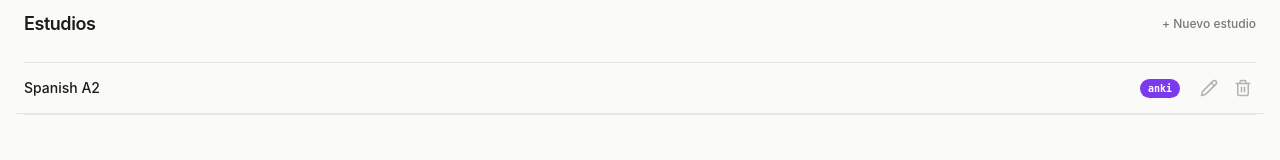
Test case: CategoryStudiesView — CRUD controls (phase 8.A.1) › shows rename input with current name on rename click
Expected: the element with test id "study-item" is shown, [16,63,1264,114]
Click the button with test id "btn-rename-deck". click: {"x": 1209, "y": 88}
box: [1196,75,1222,101]
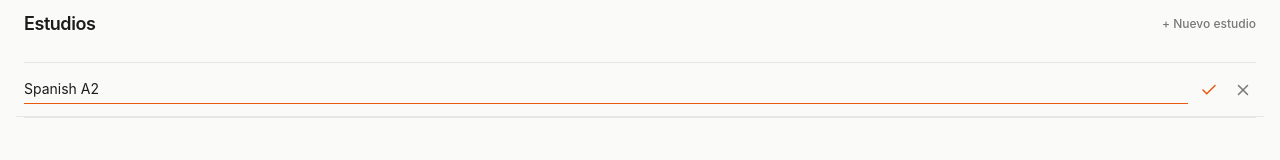
Result: the field with test id "input-rename-deck" holds "Spanish A2" at [24,75,1188,104]
